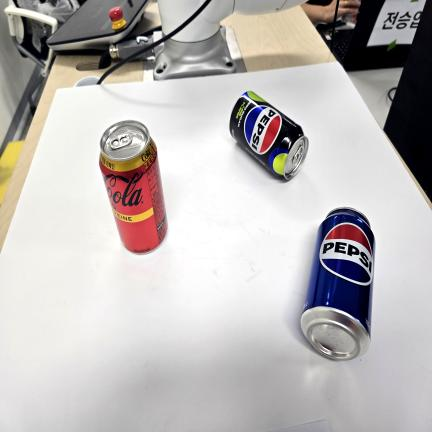can_coke_decaf: (98, 121, 168, 254)
can_pepsi: (300, 207, 376, 362)
can_pepsi_zero: (229, 90, 309, 181)
